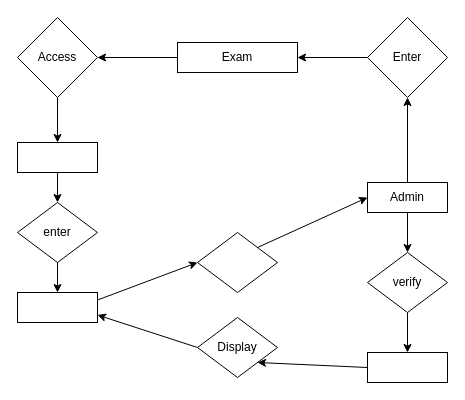
Some shapes in this 465 by 400 pixel diagram are drawn without their labels. Each missing label, with the centre of its shape:
"Approve / Reject" belongs at [407,367].
"Claim" belongs at [57,307].
"sent to" belongs at [237,262].
"User" belongs at [57,157].
